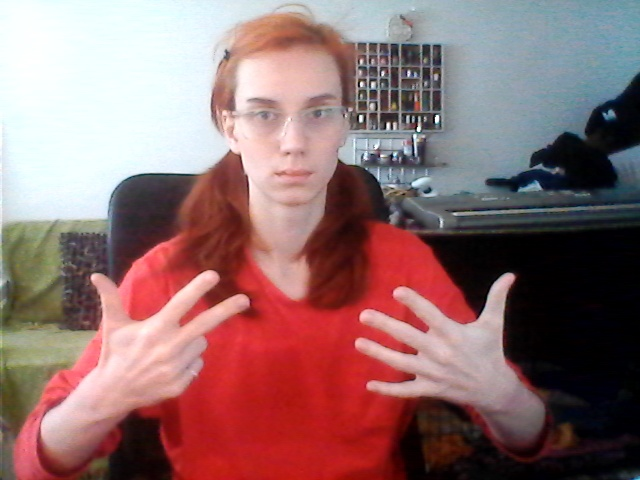osem: (85, 258, 526, 418)
